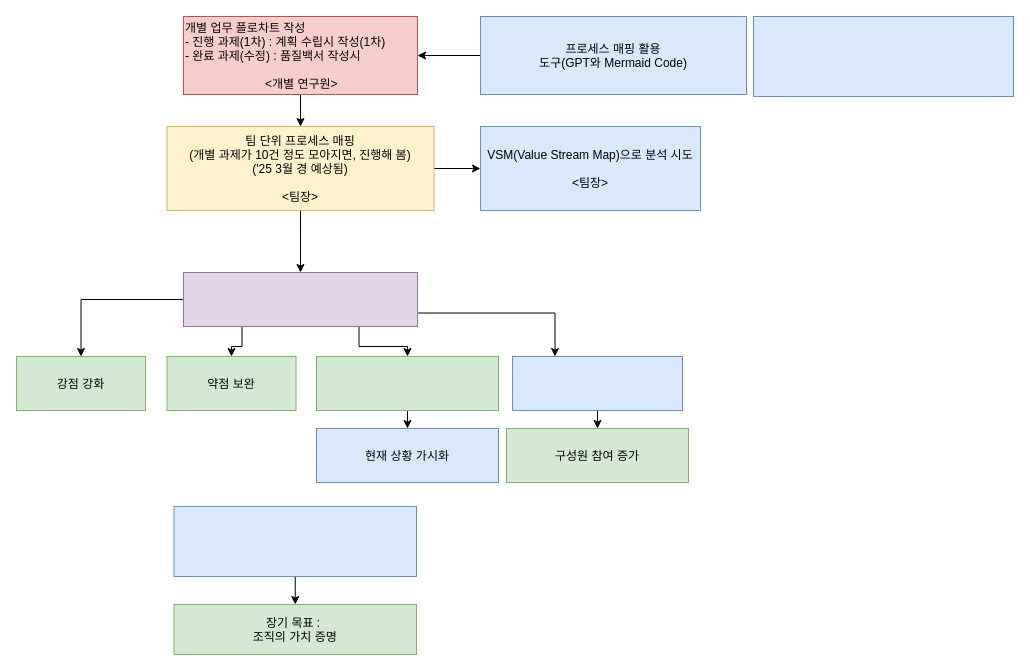
Some shapes in this 1030 by 671 pixel diagram are drawn without their labels. The box of each missing label's shape, as (x1, y1, x2, y2) in pixels:
사례 참고: 품질 리스크 최소화(구조: 이병규 책임): (752, 16, 1014, 96)
센터 전체 프로세스 매핑 (초벌 : 5월 경): (182, 272, 418, 326)
자원 투입 최적화: (316, 356, 498, 410)
중기 목표 : 팀 간 협력 증대 및 연계 강화 5개년 Road map 구체화: (173, 506, 416, 576)
팀 간 협력 강화: (512, 356, 682, 410)
